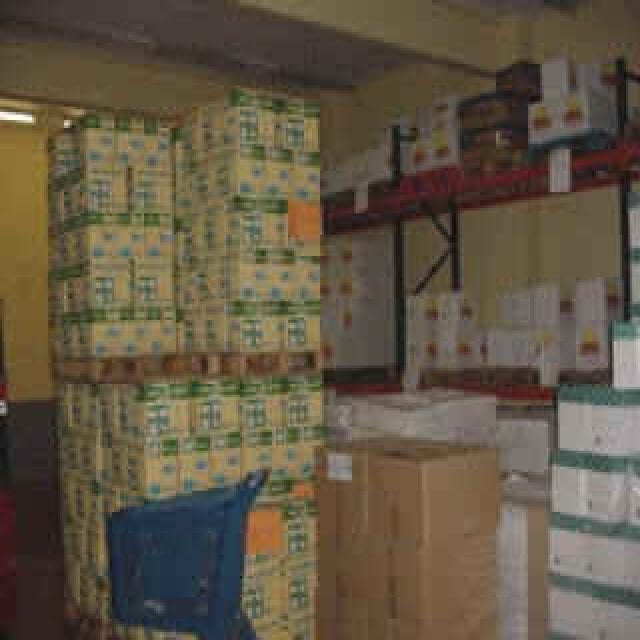box: (328, 458, 493, 624), (79, 115, 184, 343)
